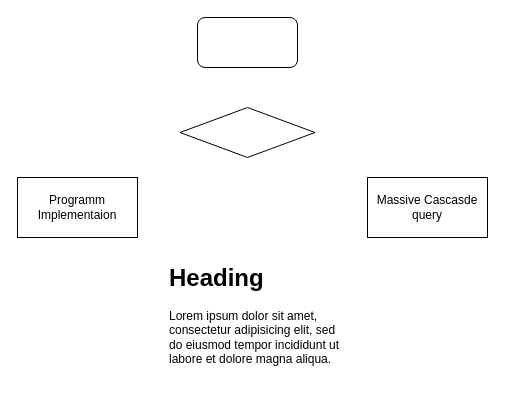
The diagram is 505 pixels wide and 398 high, and some of its shapes have lost their labels. The shapes that lost their labels are listed below. From the top down, each one's centre as x and y in pixels, then its label:
point (247, 42): Transactional core
point (247, 132): case method implementation
